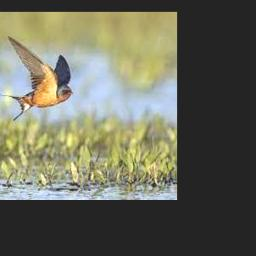Swallow: (0, 36, 73, 121)
